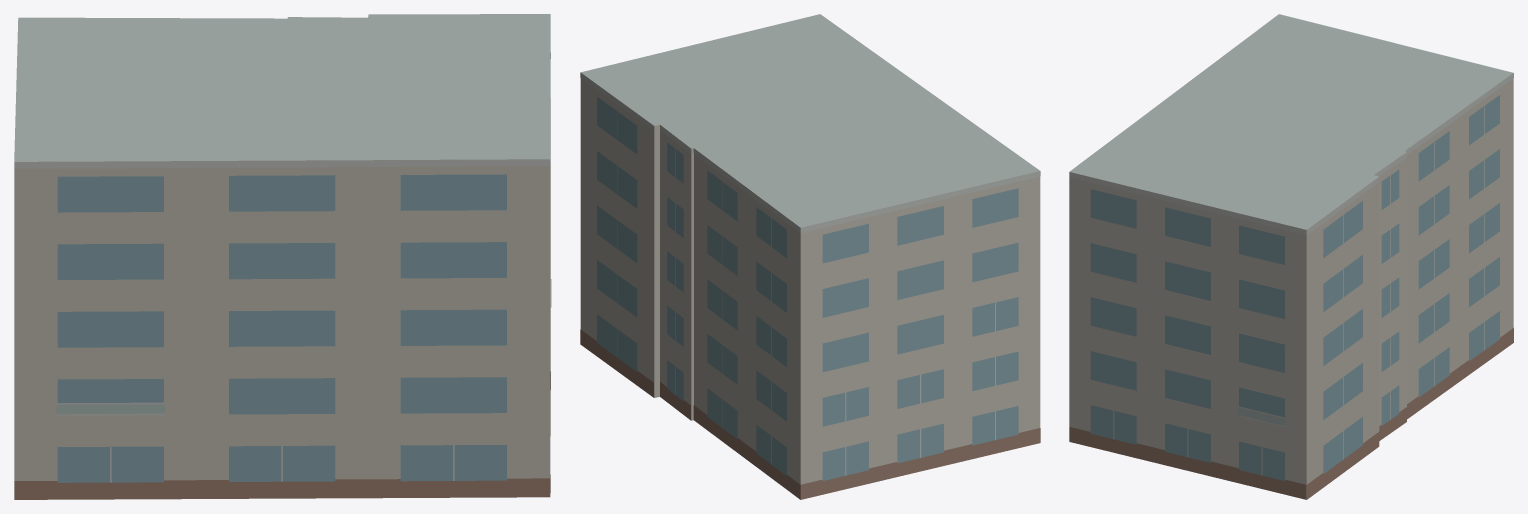
Rendered from survey-upis-32980465.glb.
The picture shows the model from 3 angles, left to right: view 1: azimuth 30°, elevation 25°; view 2: azimuth 150°, elevation 25°; view 3: azimuth 270°, elevation 25°; orthographic projection. The views are drawn at different scales.
Parts seen in each view (by area): view 1: survey-upis-32980465.tmp; view 2: survey-upis-32980465.tmp; view 3: survey-upis-32980465.tmp.
Part boxes in pixels (x1,y1,x2,y2): survey-upis-32980465.tmp: (14, 14, 551, 499); survey-upis-32980465.tmp: (580, 14, 1040, 499); survey-upis-32980465.tmp: (1069, 14, 1513, 499).
Size of the model in its own units: 20.76 by 12.1 by 18.06.
